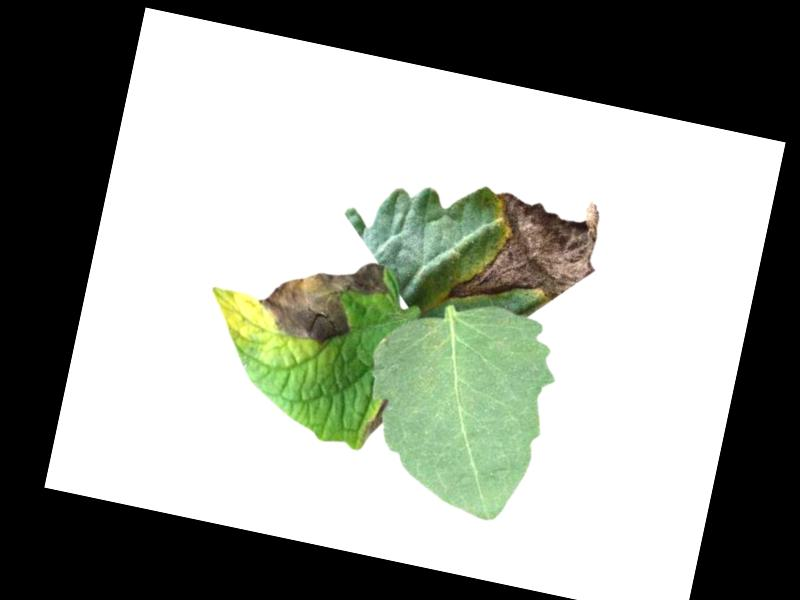Early_blight: (442, 174, 608, 324), (251, 239, 394, 357), (360, 396, 387, 444)
healthy: (346, 284, 568, 528)
